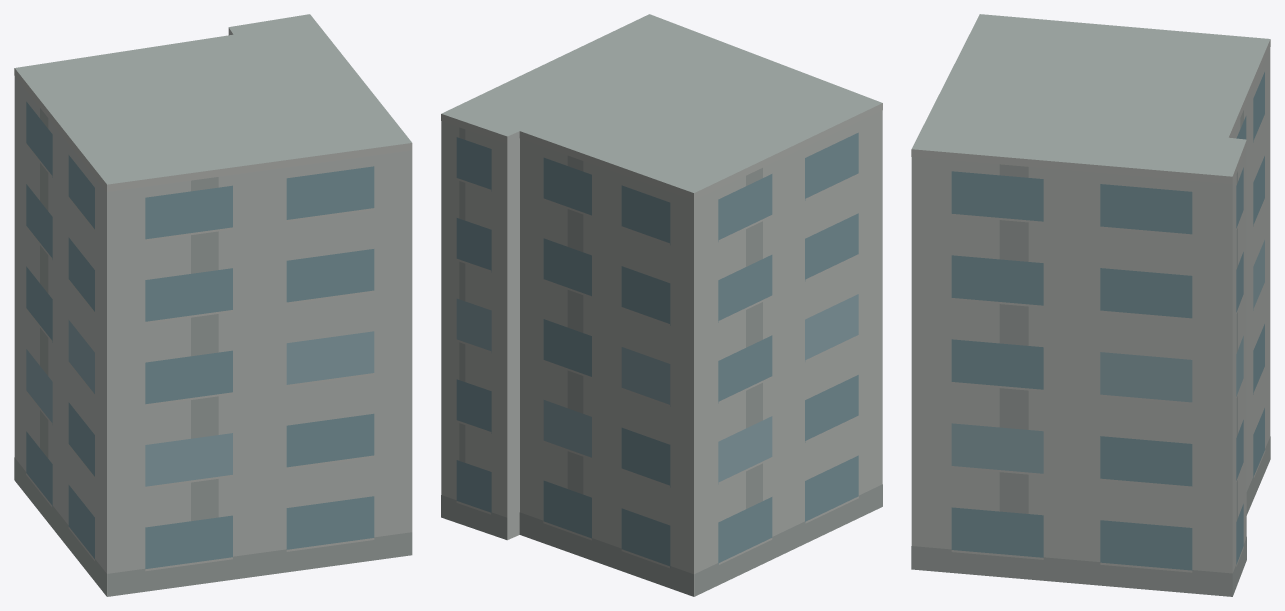
File: survey-upis-33020626.glb
3 renders of one model, left to right at view 1: azimuth 30°, elevation 25°; view 2: azimuth 150°, elevation 25°; view 3: azimuth 270°, elevation 25°, orthographic. The views are drawn at different scales.
Visible parts, largest first — view 1: survey-upis-33020626.tmp; view 2: survey-upis-33020626.tmp; view 3: survey-upis-33020626.tmp.
Part boxes in pixels (box(x1,y1,x2,y2)): survey-upis-33020626.tmp: box(14, 14, 412, 596); survey-upis-33020626.tmp: box(441, 14, 882, 596); survey-upis-33020626.tmp: box(911, 14, 1270, 596).
Bounding box in the file's own units: 11.13 × 13.4 × 10.39.
